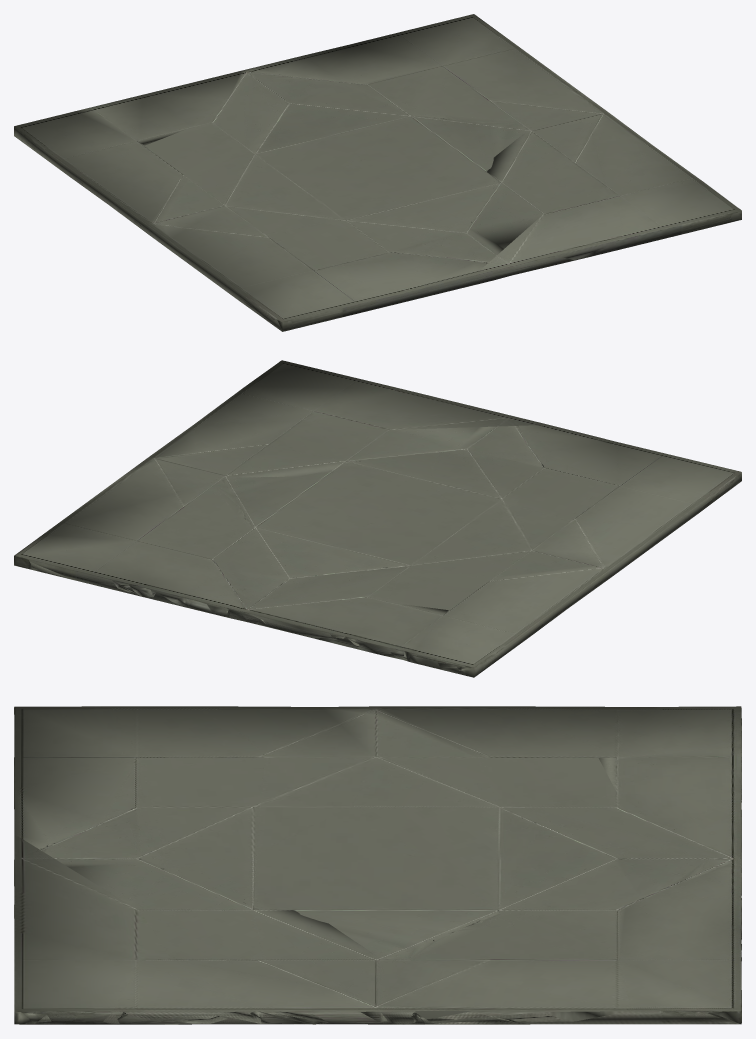
File: ceiling-futuristic-dark.glb
3 views of the same model, one above another, from view 1: azimuth 30°, elevation 25°; view 2: azimuth 150°, elevation 25°; view 3: azimuth 270°, elevation 25° (orthographic). The views are drawn at different scales.
Bounding box in the file's own units: 1.9 × 0.04 × 1.91.
1 material, 1 textured.
